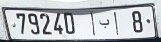0: (63, 12, 76, 34)
2: (40, 12, 51, 34)
4: (53, 11, 65, 35)
7: (15, 12, 26, 36)
8: (131, 10, 144, 35)
9: (27, 13, 40, 35)
b: (97, 16, 111, 31)
